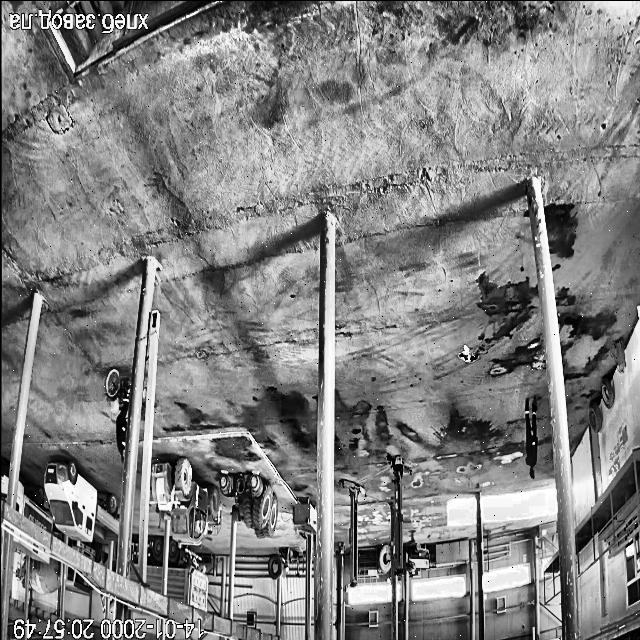class4: (524, 398, 536, 476), (116, 388, 128, 462)
class6: (151, 459, 220, 544), (220, 475, 278, 538)
class7: (44, 460, 118, 540), (168, 540, 208, 612), (16, 482, 52, 532), (20, 558, 60, 594), (146, 538, 164, 592), (12, 538, 48, 562), (68, 540, 102, 562), (65, 567, 91, 595), (0, 460, 8, 500), (132, 543, 140, 564), (130, 565, 136, 580)
truck: (388, 455, 413, 574), (344, 479, 365, 588)
